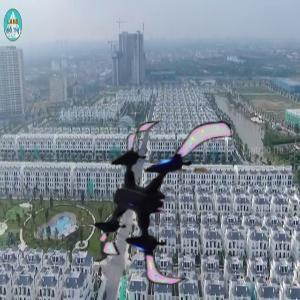drone: (71, 119, 243, 291)
